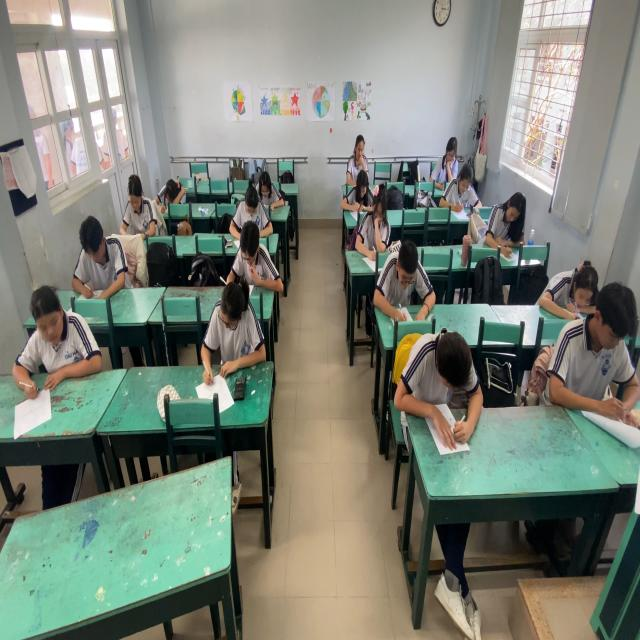not_cheating: (562, 272, 628, 430), (395, 323, 477, 448), (184, 275, 274, 388), (22, 286, 92, 394), (373, 237, 433, 332), (73, 212, 123, 296), (542, 249, 599, 311), (477, 187, 528, 246), (228, 221, 274, 281), (331, 161, 382, 212), (121, 167, 153, 243), (356, 186, 390, 256), (442, 157, 484, 207), (232, 185, 271, 231), (252, 161, 290, 204), (338, 125, 370, 173), (439, 131, 465, 185), (156, 165, 183, 208)
